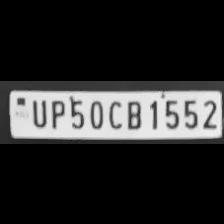0: (86, 96, 104, 128)
1: (144, 97, 160, 129)
2: (198, 96, 218, 130)
5: (160, 96, 180, 130), (66, 96, 86, 128), (180, 96, 198, 128)
B: (123, 97, 143, 129)
C: (105, 96, 123, 130)
P: (46, 96, 66, 128)
U: (28, 97, 46, 127)
